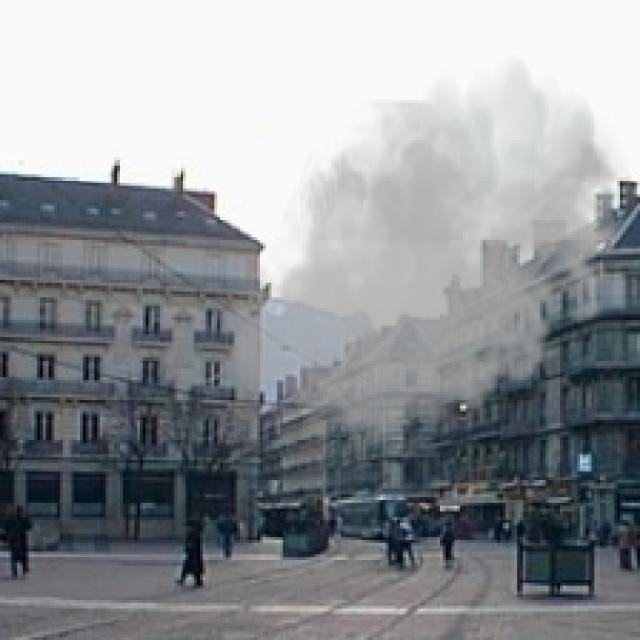Smoke: (223, 40, 632, 466)
